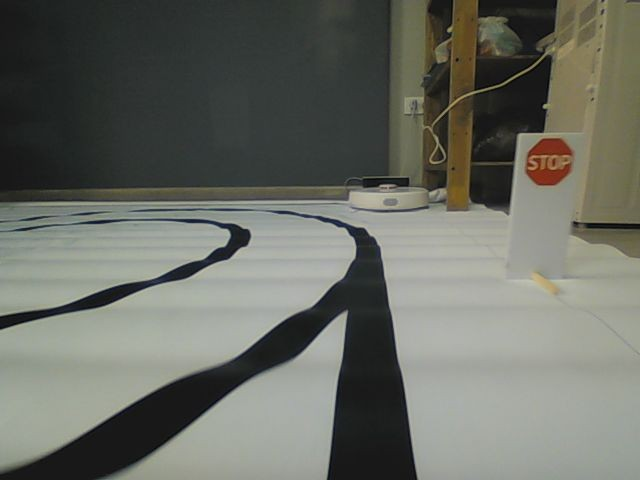Stop: (523, 138, 578, 192)
